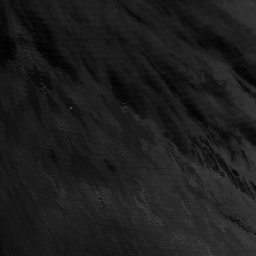Target: (67, 106, 73, 111)
